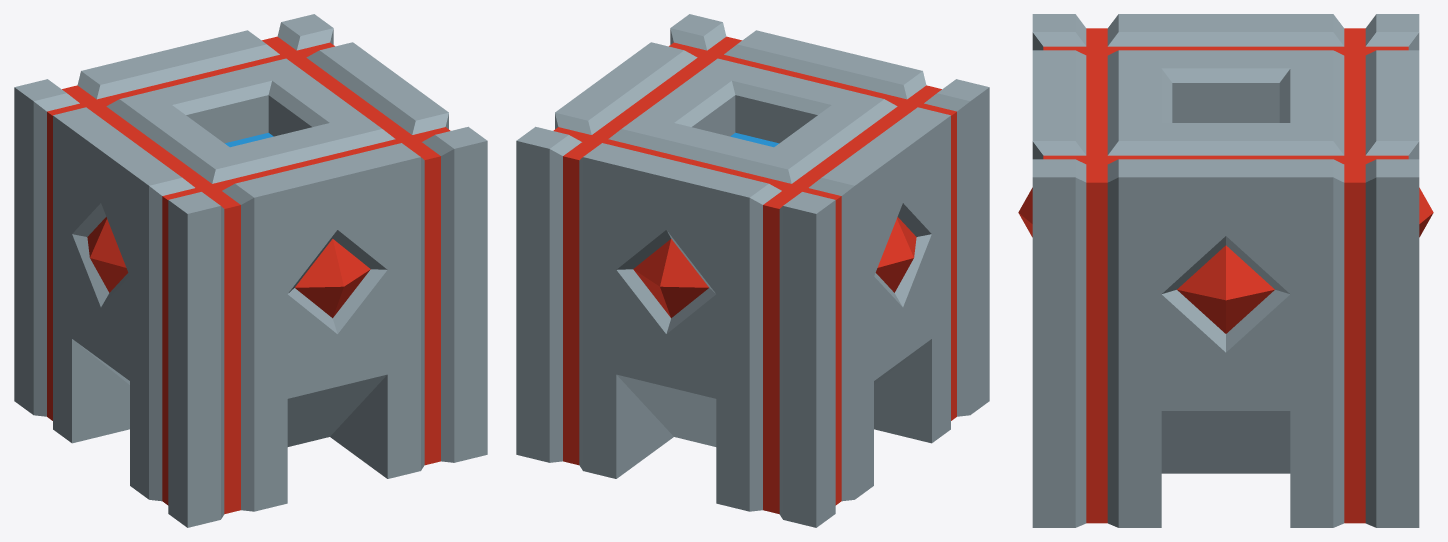
The model's file is barrack.glb.
The picture shows the model from 3 angles, left to right: view 1: azimuth 30°, elevation 25°; view 2: azimuth 150°, elevation 25°; view 3: azimuth 270°, elevation 25°; orthographic projection. The views are drawn at different scales.
Visible parts, largest first — view 1: Cube; view 2: Cube; view 3: Cube.
Part boxes in pixels (x1,y1,x2,y2): Cube: (14, 14, 487, 527); Cube: (516, 14, 989, 527); Cube: (1018, 14, 1433, 527).
Bounding box in the file's own units: 1.92 × 1.78 × 1.92.
